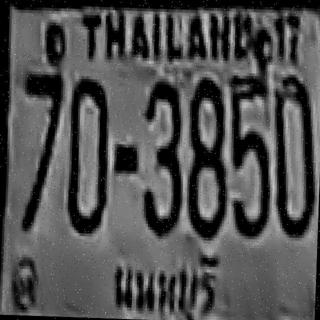N00: (268, 74, 316, 235), (65, 75, 108, 231), (228, 128, 270, 234)
N03: (138, 78, 184, 234)
N07: (21, 71, 62, 168)
N08: (184, 75, 230, 237)
P37: (104, 236, 221, 320)
